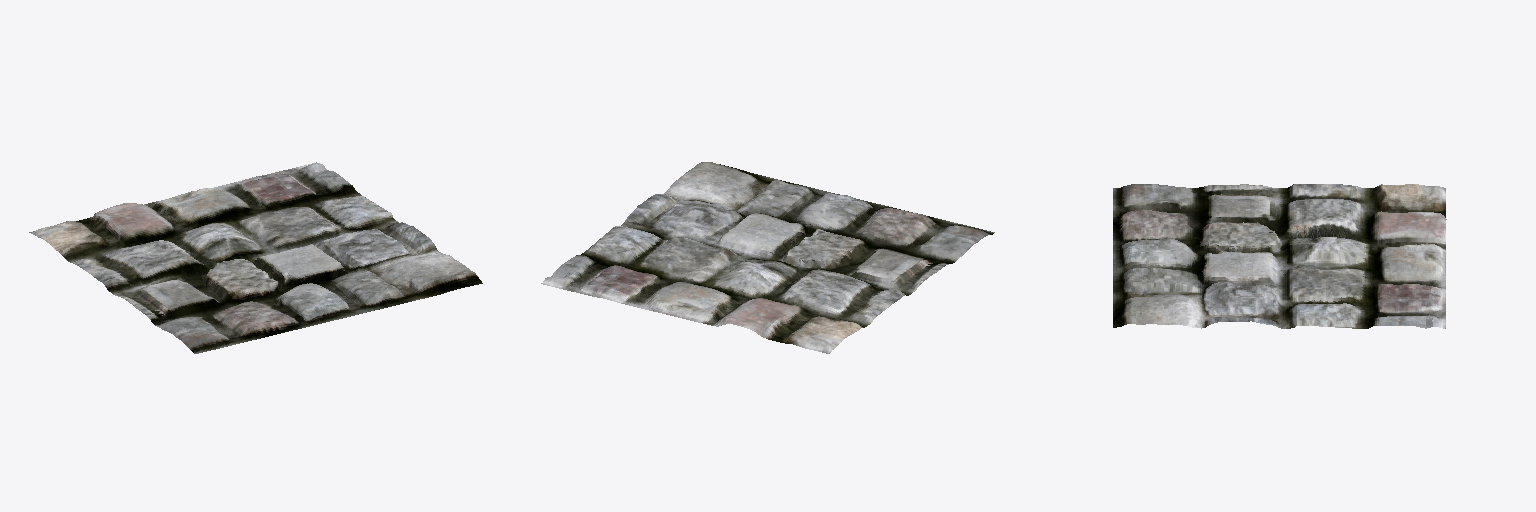
3 renders of one model, left to right at view 1: azimuth 30°, elevation 25°; view 2: azimuth 150°, elevation 25°; view 3: azimuth 270°, elevation 25°, orthographic.
Visible parts, largest first — view 1: Grid_Grid.002; view 2: Grid_Grid.002; view 3: Grid_Grid.002.
Part boxes in pixels (bbox=[...]): Grid_Grid.002: bbox=[29, 162, 482, 353]; Grid_Grid.002: bbox=[541, 162, 994, 353]; Grid_Grid.002: bbox=[1113, 184, 1446, 328].
Bounding box in the file's own units: 4.02 × 0.2066 × 4.
Materials: 1 (1 with a texture image).